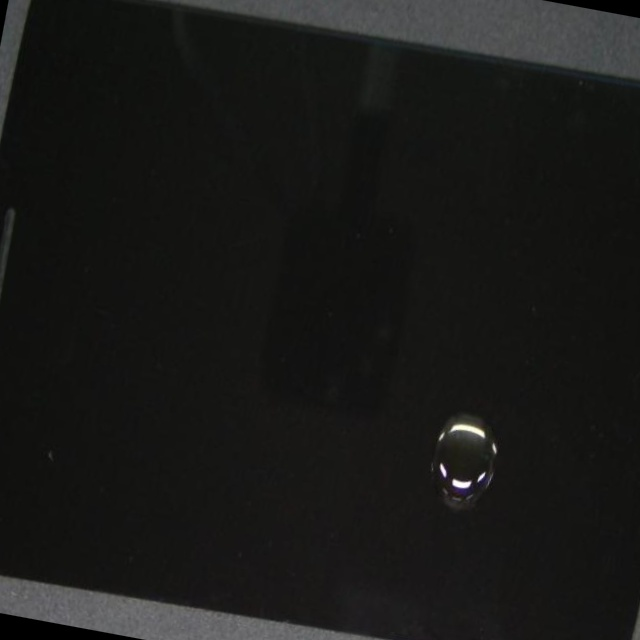oil: (179, 215, 640, 640)
